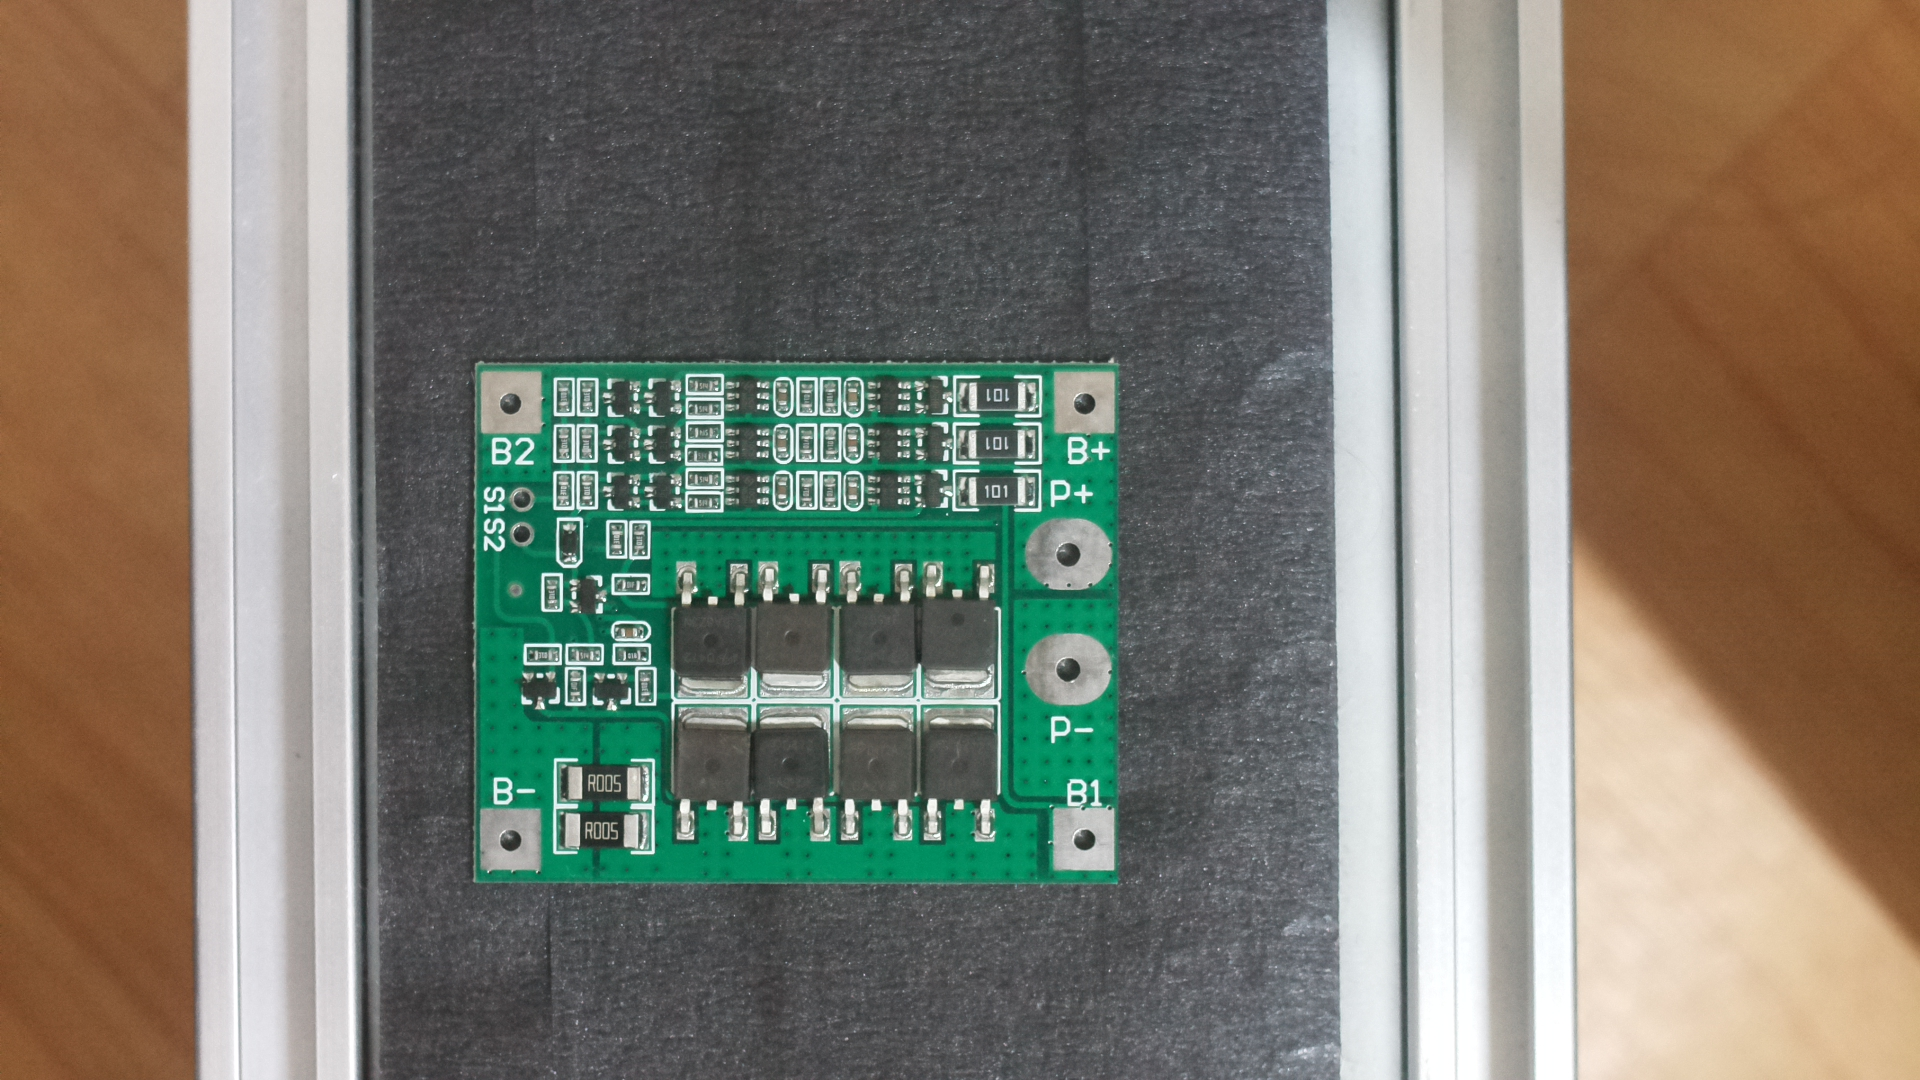C_Normal: (458, 351, 1135, 895)
